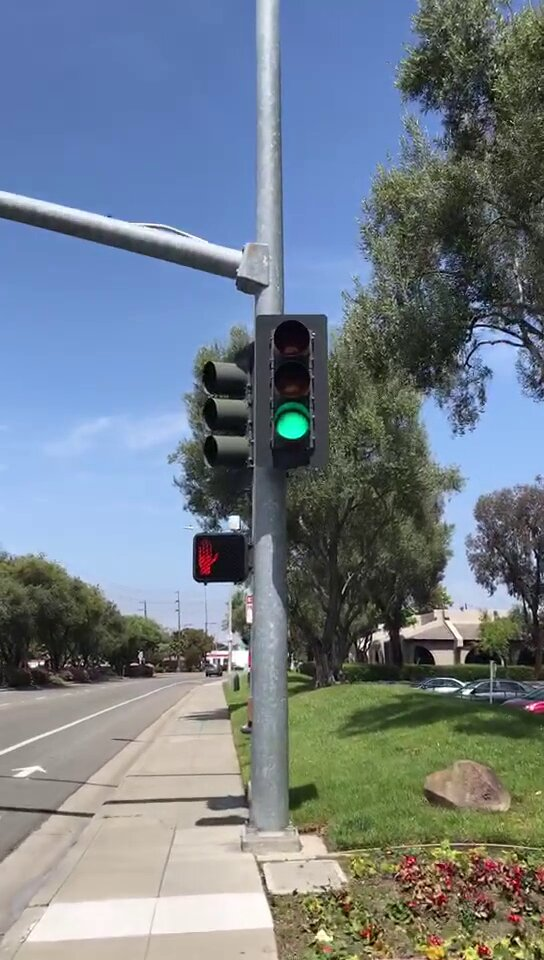green_light: (256, 316, 328, 467)
